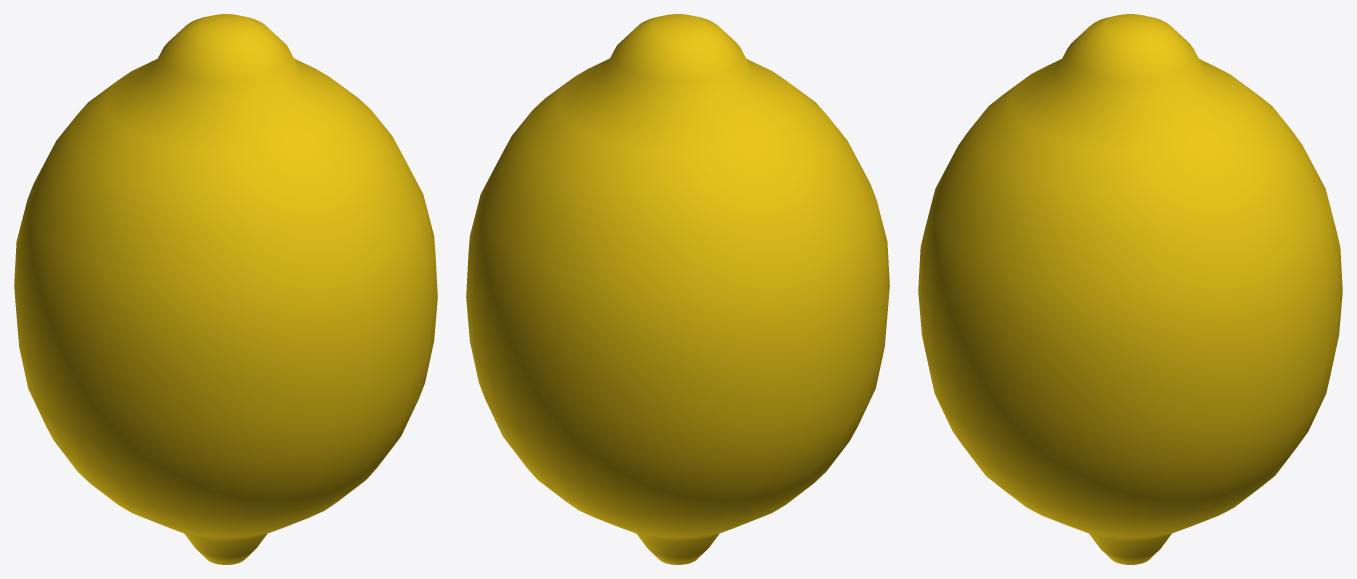
File: Zitrone_ganz.fbx
The picture shows the model from 3 angles, left to right: view 1: azimuth 30°, elevation 25°; view 2: azimuth 150°, elevation 25°; view 3: azimuth 270°, elevation 25°; orthographic projection.
Visible parts, largest first — view 1: Sphere.004; view 2: Sphere.004; view 3: Sphere.004.
Part boxes in pixels (x1=…): Sphere.004: x1=14, y1=14, x2=437, y2=564; Sphere.004: x1=466, y1=14, x2=889, y2=564; Sphere.004: x1=918, y1=14, x2=1342, y2=564.
Bounding box in the file's own units: 201 × 281 × 201.
